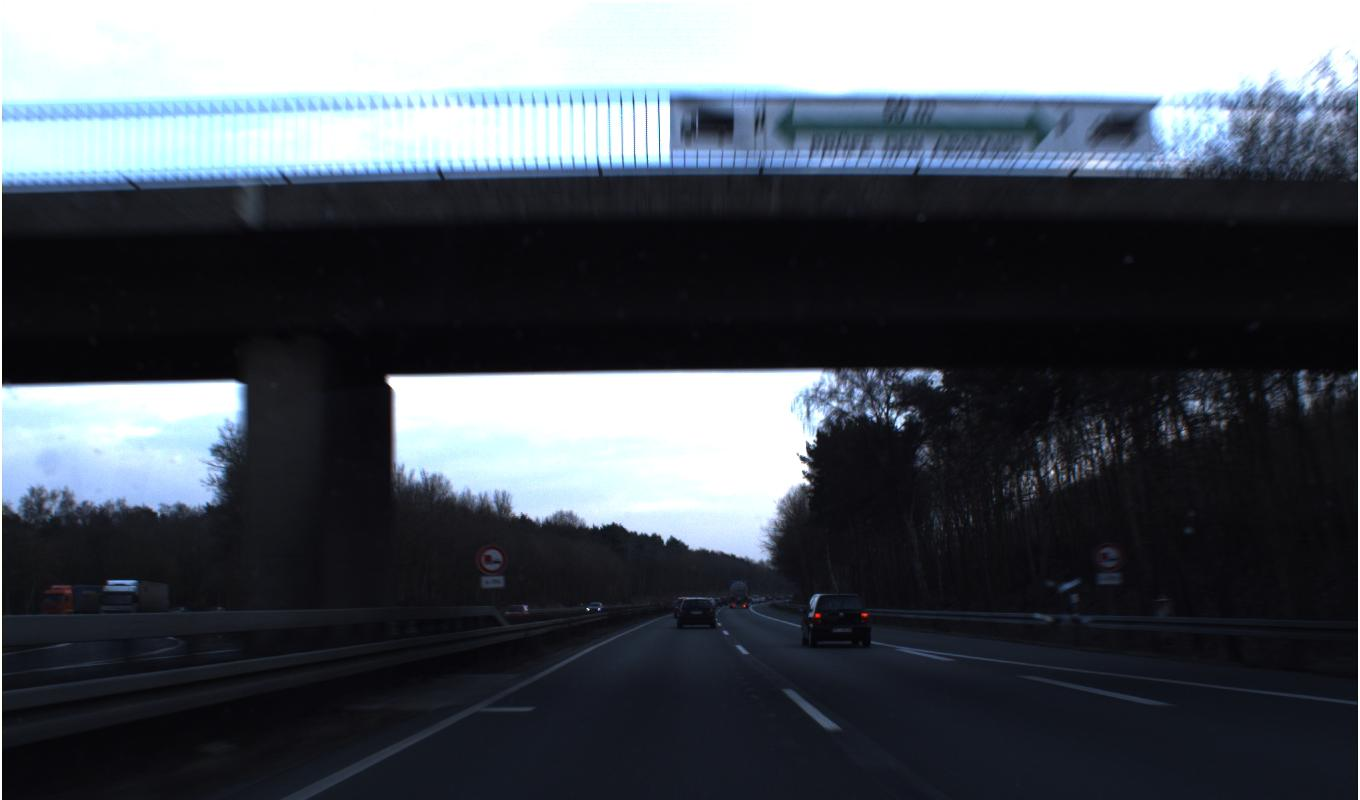prohibitory: (475, 543, 508, 576), (1092, 542, 1125, 573)
